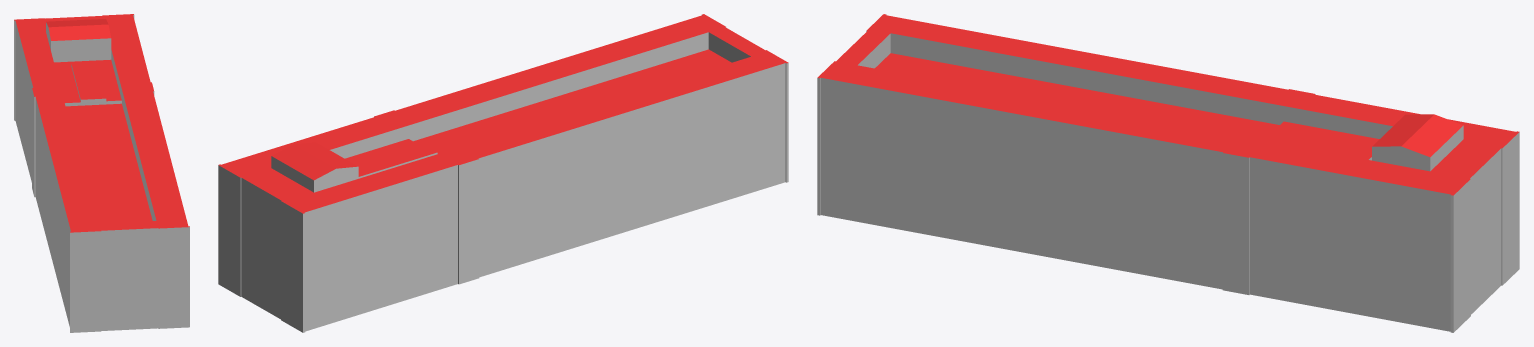
The model's file is DEBY_LOD2_4959326.dae.
The picture shows the model from 3 angles, left to right: view 1: azimuth 30°, elevation 25°; view 2: azimuth 150°, elevation 25°; view 3: azimuth 270°, elevation 25°; orthographic projection. The views are drawn at different scales.
Bounding box in the file's own units: 68.4 × 112 × 27.56.
